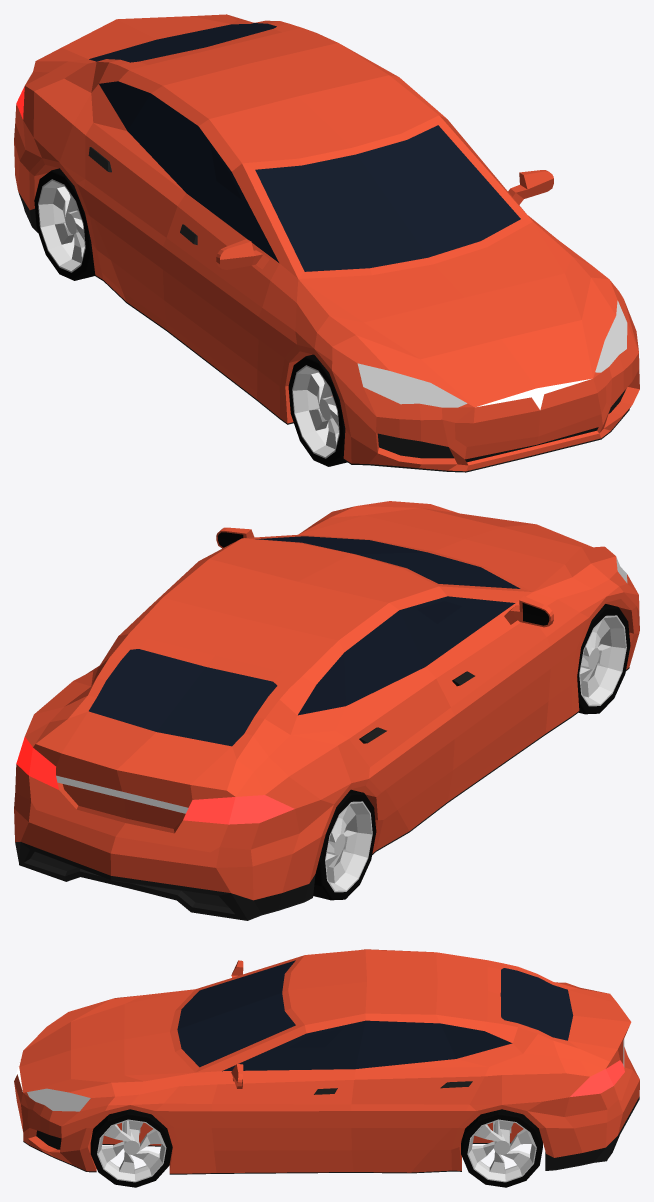
Rendered from DM_ElectricCar.fbx.
3 renders of one model, top to bottom at view 1: azimuth 30°, elevation 25°; view 2: azimuth 150°, elevation 25°; view 3: azimuth 270°, elevation 25°, orthographic. The views are drawn at different scales.
Parts seen in each view (by area): view 1: DM_ElectricCar_Chassis, DM_ElectricCar_FrontDoorR, DM_ElectricCar_RearDoorR, DM_ElectricCar_Trunk, DM_ElectricCar_BackWheelR, DM_ElectricCar_FrontWheelR, DM_ElectricCar_FrontDoorL, DM_ElectricCar_BottomCover; view 2: DM_ElectricCar_Chassis, DM_ElectricCar_Trunk, DM_ElectricCar_FrontDoorR, DM_ElectricCar_RearDoorR, DM_ElectricCar_BackWheelR, DM_ElectricCar_FrontWheelR, DM_ElectricCar_BottomCover; view 3: DM_ElectricCar_Chassis, DM_ElectricCar_FrontDoorL, DM_ElectricCar_RearDoorL, DM_ElectricCar_Trunk, DM_ElectricCar_BackWheelL, DM_ElectricCar_FrontWheelL, DM_ElectricCar_BottomCover.
Boxes of the visible parts, x1,y1,x2,y2 form: DM_ElectricCar_Chassis: (14, 22, 639, 471); DM_ElectricCar_FrontDoorR: (162, 126, 279, 391); DM_ElectricCar_RearDoorR: (84, 93, 198, 322); DM_ElectricCar_Trunk: (33, 14, 301, 92); DM_ElectricCar_BackWheelR: (34, 168, 95, 280); DM_ElectricCar_FrontWheelR: (288, 354, 347, 466); DM_ElectricCar_FrontDoorL: (508, 170, 553, 204); DM_ElectricCar_BottomCover: (24, 208, 629, 472); DM_ElectricCar_Chassis: (14, 501, 639, 919); DM_ElectricCar_Trunk: (29, 634, 315, 852); DM_ElectricCar_FrontDoorR: (399, 596, 553, 793); DM_ElectricCar_RearDoorR: (335, 610, 454, 825); DM_ElectricCar_BackWheelR: (313, 789, 376, 900); DM_ElectricCar_FrontWheelR: (577, 604, 630, 714); DM_ElectricCar_BottomCover: (19, 667, 629, 920); DM_ElectricCar_Chassis: (14, 949, 639, 1173); DM_ElectricCar_FrontDoorL: (211, 1020, 365, 1167); DM_ElectricCar_RearDoorL: (351, 1020, 488, 1166); DM_ElectricCar_Trunk: (484, 960, 632, 1100); DM_ElectricCar_BackWheelL: (461, 1109, 542, 1187); DM_ElectricCar_FrontWheelL: (90, 1109, 172, 1187); DM_ElectricCar_BottomCover: (23, 1141, 607, 1174).
Bounding box in the file's own units: 242 × 147 × 538.
